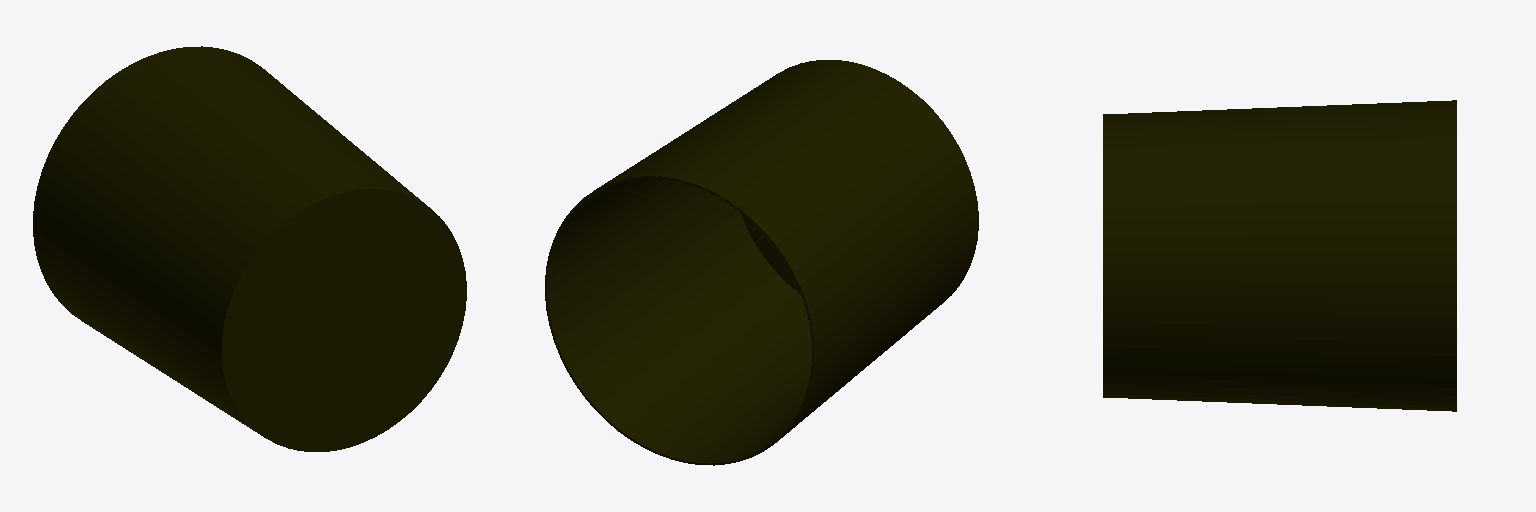
File: LIXEIRA1a.obj
3 renders of one model, left to right at view 1: azimuth 30°, elevation 25°; view 2: azimuth 150°, elevation 25°; view 3: azimuth 270°, elevation 25°, orthographic.
Size of the model in its own units: 2.2 by 2.2 by 2.49.